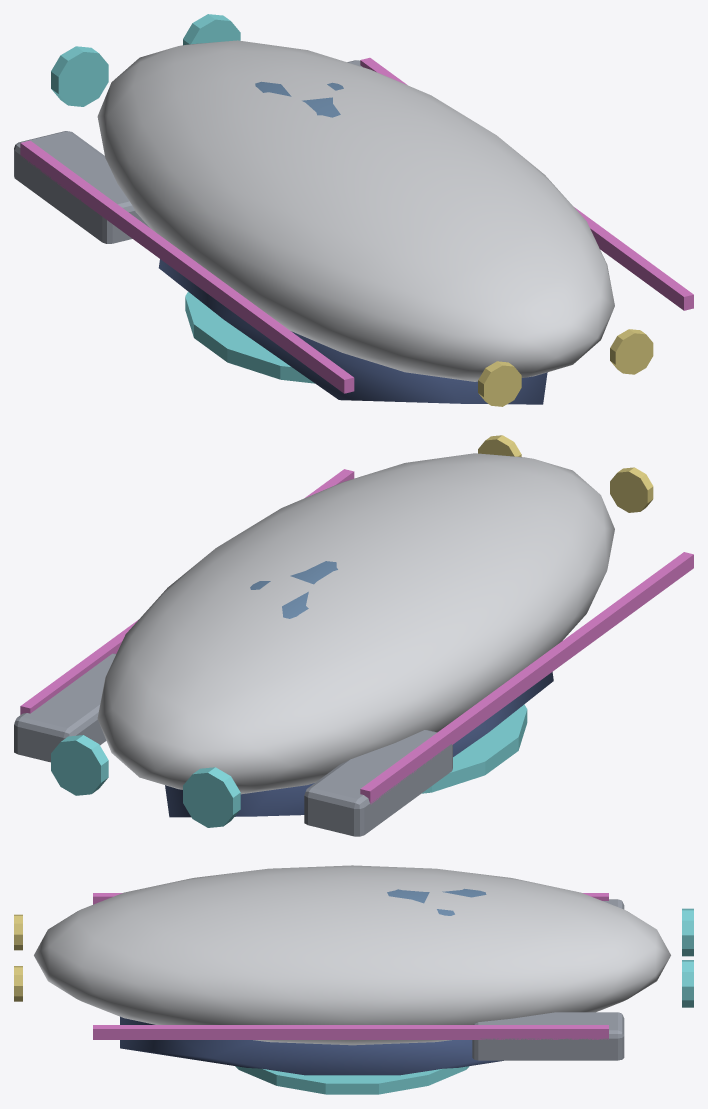
The model's file is rn2-orbital-car.glb.
The picture shows the model from 3 angles, top to bottom: view 1: azimuth 30°, elevation 25°; view 2: azimuth 150°, elevation 25°; view 3: azimuth 270°, elevation 25°; orthographic projection. The views are drawn at different scales.
Parts seen in each view (by area): view 1: rn2_orbital_car_body, rn2_orbital_car_glow; view 2: rn2_orbital_car_body, rn2_orbital_car_glow; view 3: rn2_orbital_car_body, rn2_orbital_car_glow.
Boxes of the visible parts, bbox=[...] form: rn2_orbital_car_body: bbox=[14, 40, 614, 404]; rn2_orbital_car_glow: bbox=[20, 14, 693, 406]; rn2_orbital_car_body: bbox=[14, 453, 614, 836]; rn2_orbital_car_glow: bbox=[20, 435, 693, 827]; rn2_orbital_car_body: bbox=[34, 865, 670, 1075]; rn2_orbital_car_glow: bbox=[14, 893, 693, 1094].
Bounding box in the file's own units: 2.12 × 1.09 × 4.48.
